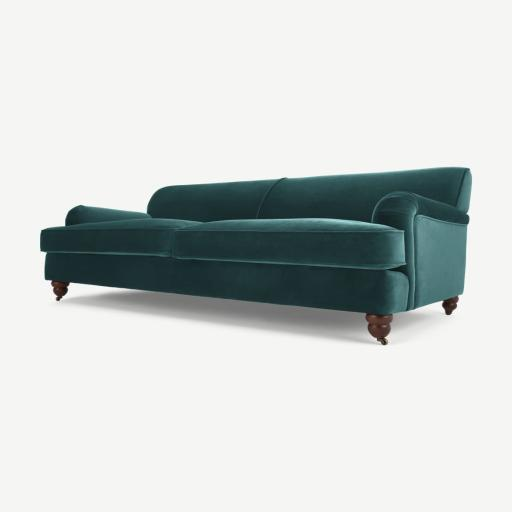back_cushion: (148, 167, 470, 222)
base: (45, 254, 408, 314)
left_arm: (374, 193, 467, 314)
legs: (366, 314, 392, 344), (51, 281, 69, 301), (443, 297, 458, 315)
right_arm: (66, 205, 151, 226)
seat_cushion: (41, 218, 405, 270)
two-seater: (0, 0, 511, 512)
